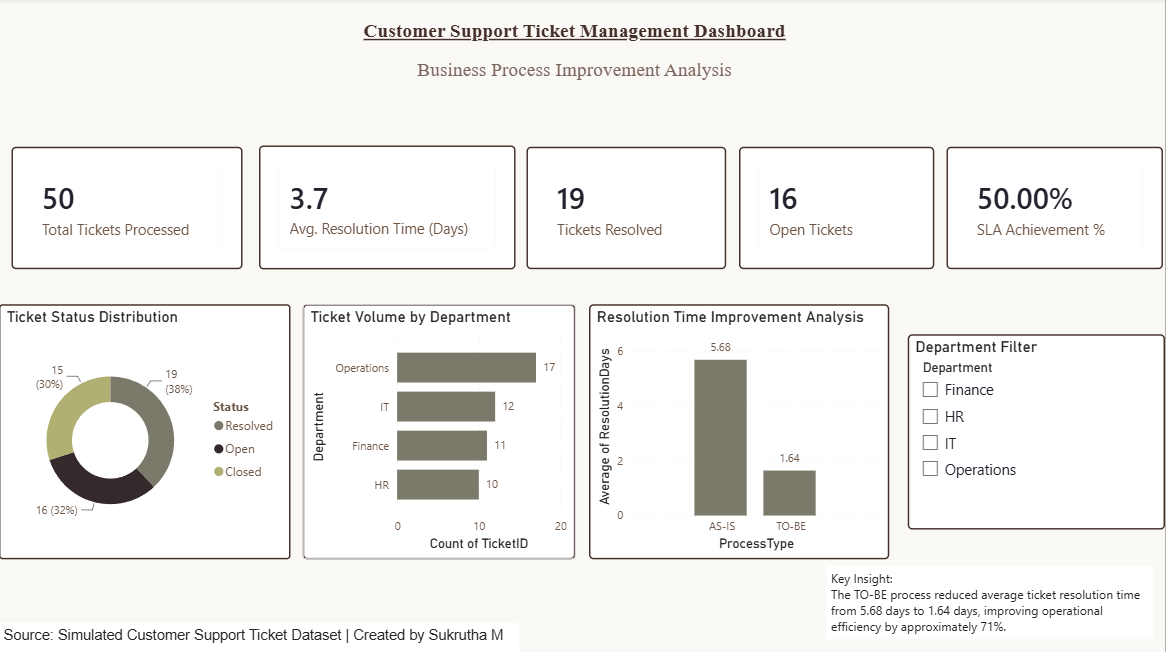

The dashboard page shown, as its layout file describes it:
{"tool":"powerbi","page":{"name":"Page 1","canvas":[1280,720],"ordinal":0},"visuals":[{"type":"cardVisual","title":"Total Tickets Processed","fields":{"Data":["CountNonNull(Sheet1.TicketID)"]},"box":[13.7,163.3,253.9,134.5],"z":0},{"type":"cardVisual","fields":{"Data":["Avg(Sheet1.ResolutionDays)"]},"box":[285.4,161.9,281.3,135.8],"z":1000},{"type":"cardVisual","title":"Tickets Resolved","fields":{"Data":["CountNonNull(Sheet1.Status)"]},"box":[579.1,163.3,219.6,134.5],"z":2000},{"type":"donutChart","title":"Ticket Status Distribution","fields":{"Category":["Sheet1.Status"],"Y":["CountNonNull(Sheet1.TicketID)"]},"box":[0,336.2,319.7,279.9],"z":3000},{"type":"clusteredBarChart","title":"Ticket Volume by Department","fields":{"Category":["Sheet1.Department"],"Y":["CountNonNull(Sheet1.TicketID)"]},"box":[333.4,336.2,299.1,279.9],"z":4000},{"type":"clusteredColumnChart","title":"Resolution Time Improvement Analysis","fields":{"Category":["Sheet1.ProcessType"],"Y":["Avg(Sheet1.ResolutionDays)"]},"box":[647.7,336.2,329.3,279.9],"z":5000},{"type":"slicer","title":"Department Filter","fields":{"Values":["Sheet1.Department"]},"box":[997.6,369.1,282.7,214.1],"z":6000},{"type":"textbox","box":[344.4,19.2,575,86.4],"z":7000},{"type":"cardVisual","fields":{"Data":["Sheet1.SLA Compliance %"]},"box":[1040.1,163.3,237.4,134.5],"z":8000},{"type":"textbox","box":[0,686.1,570.8,34.3],"z":9000},{"type":"cardVisual","fields":{"Data":["CountNonNull(Sheet1.Status)"]},"box":[812.4,163.3,214.1,134.5],"z":9001},{"type":"textbox","box":[908.4,623,358.1,81],"z":9002}]}

Visuals, with their boxes in screenshot pixels (x1, y1, x2, y2), scaled from the page's 1280x720 canvas onto the 1166x652 screenshot:
"Total Tickets Processed" cardVisual: bbox=(12, 148, 244, 270)
cardVisual - Avg(Sheet1.ResolutionDays): bbox=(260, 147, 516, 270)
"Tickets Resolved" cardVisual: bbox=(528, 148, 728, 270)
"Ticket Status Distribution" donutChart: bbox=(0, 304, 291, 558)
"Ticket Volume by Department" clusteredBarChart: bbox=(304, 304, 576, 558)
"Resolution Time Improvement Analysis" clusteredColumnChart: bbox=(590, 304, 890, 558)
"Department Filter" slicer: bbox=(909, 334, 1165, 528)
textbox: bbox=(314, 17, 838, 96)
cardVisual - Sheet1.SLA Compliance %: bbox=(947, 148, 1164, 270)
textbox: bbox=(0, 621, 520, 651)
cardVisual - CountNonNull(Sheet1.Status): bbox=(740, 148, 935, 270)
textbox: bbox=(827, 564, 1154, 638)
